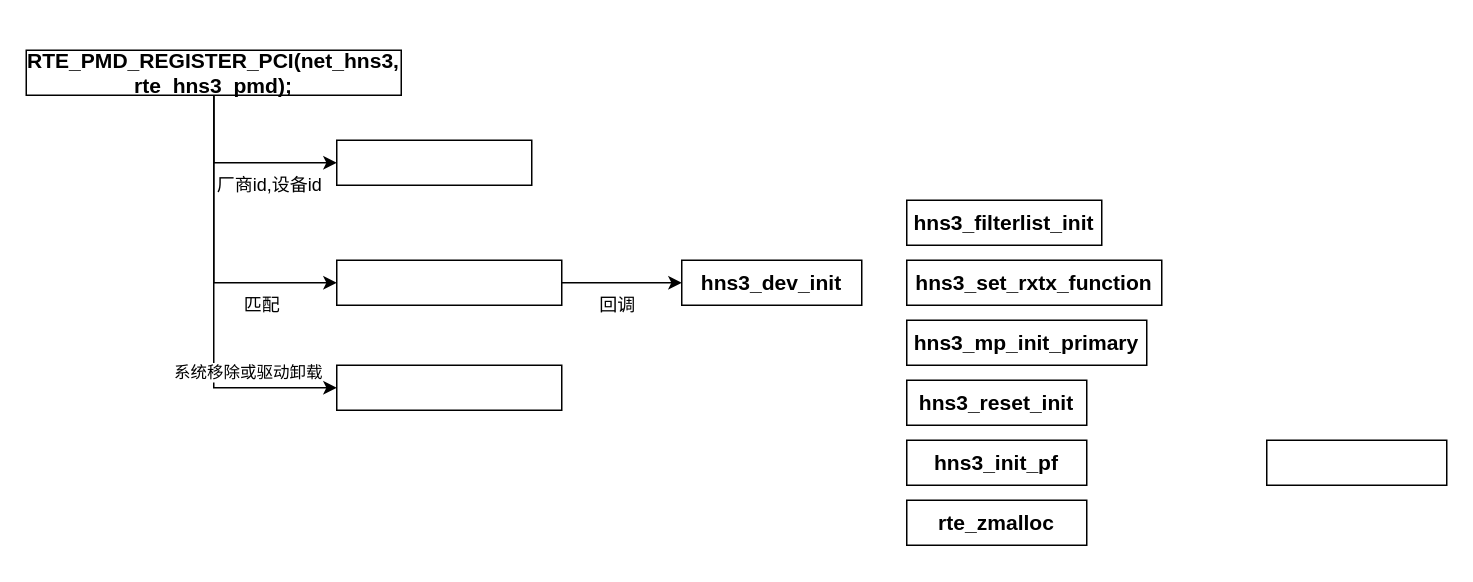
This 1473x582 diagram has some shape labels left out. Each missing label, with the centre of its shape:
"eth_hns3_pci_probe" belongs at (x=448, y=282).
"eth_hns3_pci_remove" belongs at (x=448, y=387).
"pci_id_hns3_map" belongs at (x=433, y=162).
